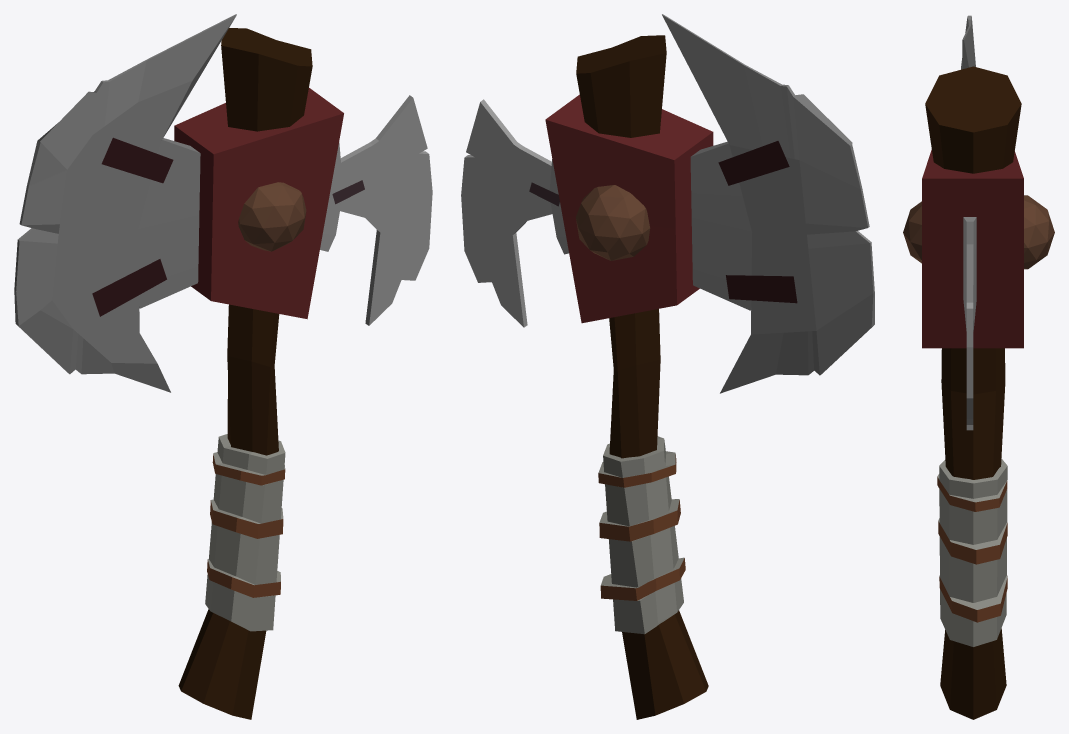
File: axe2.fbx
3 views of the same model, side by side, from view 1: azimuth 30°, elevation 25°; view 2: azimuth 150°, elevation 25°; view 3: azimuth 270°, elevation 25° (orthographic). The views are drawn at different scales.
Visible parts, largest first — view 1: big blade, centre cube, handle2, grip, small blade, side, big joining thing, Icosphere, right side; view 2: big blade, centre cube, handle2, grip, small blade, side, Icosphere.001, big joining thing, right side; view 3: handle2, centre cube, grip, Icosphere.001, small blade, right side, Icosphere, big blade.
Part boxes in pixels (x1=…): big blade: x1=14, y1=14, x2=236, y2=392; centre cube: x1=174, y1=88, x2=343, y2=319; handle2: x1=178, y1=28, x2=312, y2=719; grip: x1=205, y1=434, x2=285, y2=631; small blade: x1=340, y1=95, x2=432, y2=325; side: x1=138, y1=138, x2=200, y2=308; big joining thing: x1=92, y1=137, x2=173, y2=316; Icosphere: x1=238, y1=182, x2=306, y2=251; right side: x1=320, y1=142, x2=342, y2=251; big blade: x1=662, y1=14, x2=874, y2=393; centre cube: x1=545, y1=94, x2=713, y2=323; handle2: x1=576, y1=35, x2=708, y2=719; grip: x1=598, y1=436, x2=685, y2=634; small blade: x1=461, y1=99, x2=552, y2=327; side: x1=690, y1=141, x2=751, y2=310; Icosphere.001: x1=575, y1=185, x2=650, y2=260; big joining thing: x1=718, y1=141, x2=797, y2=303; right side: x1=549, y1=159, x2=568, y2=254; handle2: x1=925, y1=66, x2=1021, y2=719; centre cube: x1=922, y1=149, x2=1023, y2=348; grip: x1=937, y1=458, x2=1007, y2=646; Icosphere.001: x1=1024, y1=195, x2=1054, y2=269; small blade: x1=966, y1=244, x2=973, y2=430; right side: x1=963, y1=217, x2=976, y2=331; Icosphere: x1=903, y1=201, x2=921, y2=263; big blade: x1=961, y1=15, x2=975, y2=69.
Size of the model in its own units: 254 by 413 by 84.7.
